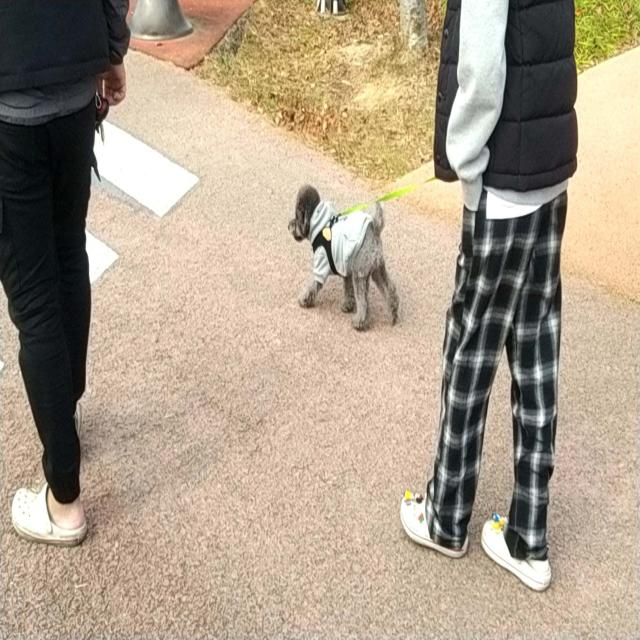Leashed_Dog: (288, 136, 485, 330)
